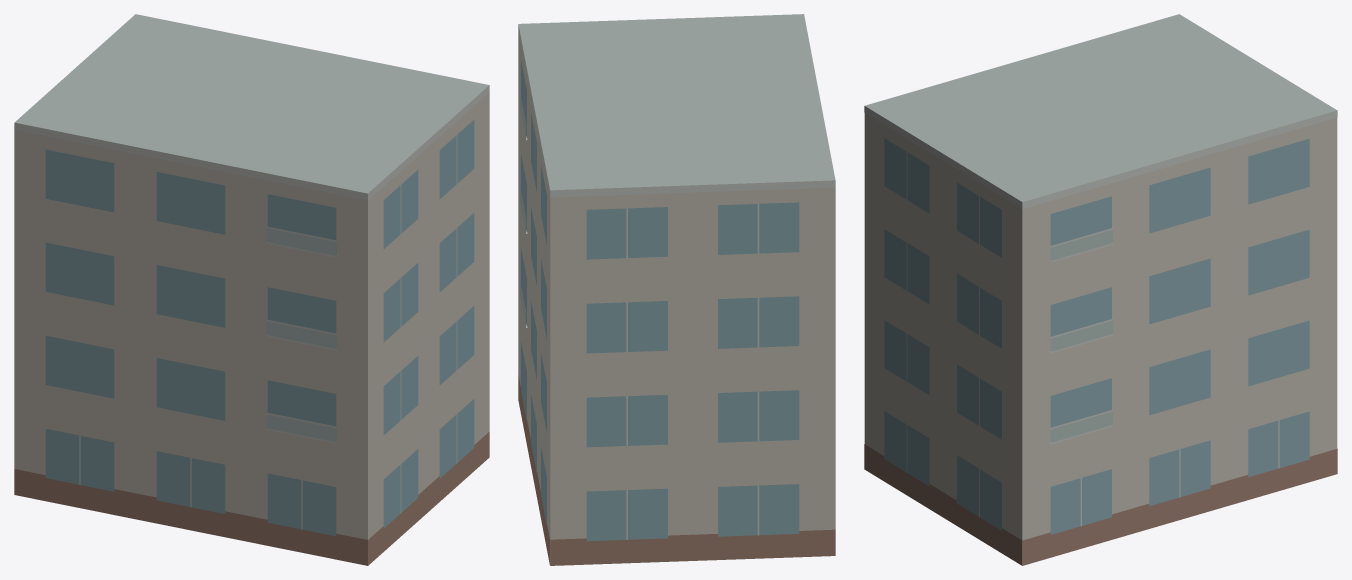
File: survey-upis-32976095.glb
3 renders of one model, left to right at view 1: azimuth 30°, elevation 25°; view 2: azimuth 150°, elevation 25°; view 3: azimuth 270°, elevation 25°, orthographic. The views are drawn at different scales.
Parts seen in each view (by area): view 1: survey-upis-32976095.tmp; view 2: survey-upis-32976095.tmp; view 3: survey-upis-32976095.tmp.
Boxes of the visible parts, <box> form: survey-upis-32976095.tmp: <box>14,14,489,565</box>; survey-upis-32976095.tmp: <box>518,14,835,565</box>; survey-upis-32976095.tmp: <box>864,14,1337,565</box>.
Size of the model in its own units: 14.05 by 12.65 by 14.91.
